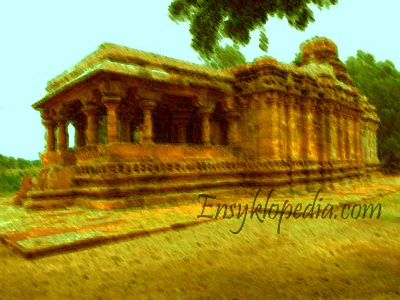mandapa: (28, 50, 227, 167)
